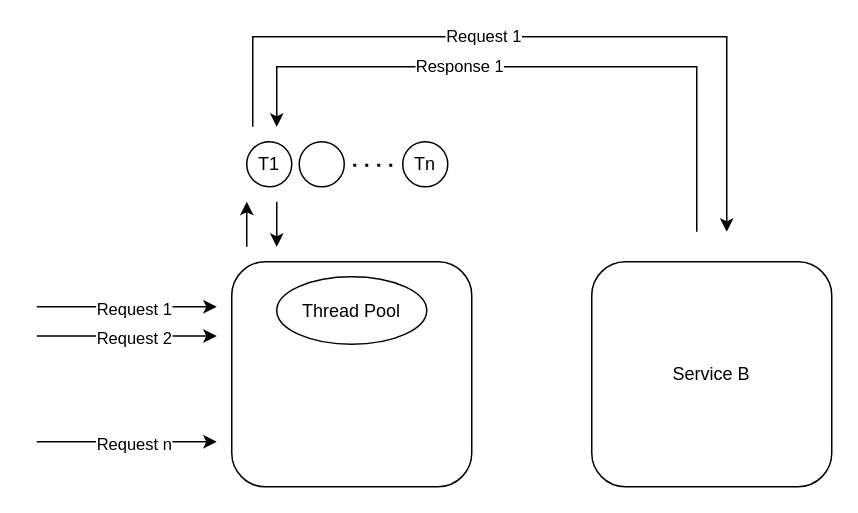
Some shapes in this 858 by 513 pixel diagram are drawn without their labels. Here are the shapes that lost their labels. From the top down, the box of each, then its label:
(298, 140, 344, 187): T2
(230, 260, 472, 487): Service A
